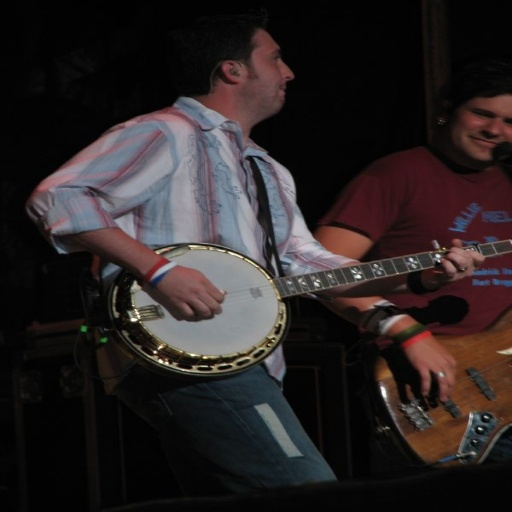hand: (401, 334, 459, 402), (157, 264, 225, 318), (432, 232, 482, 284)
